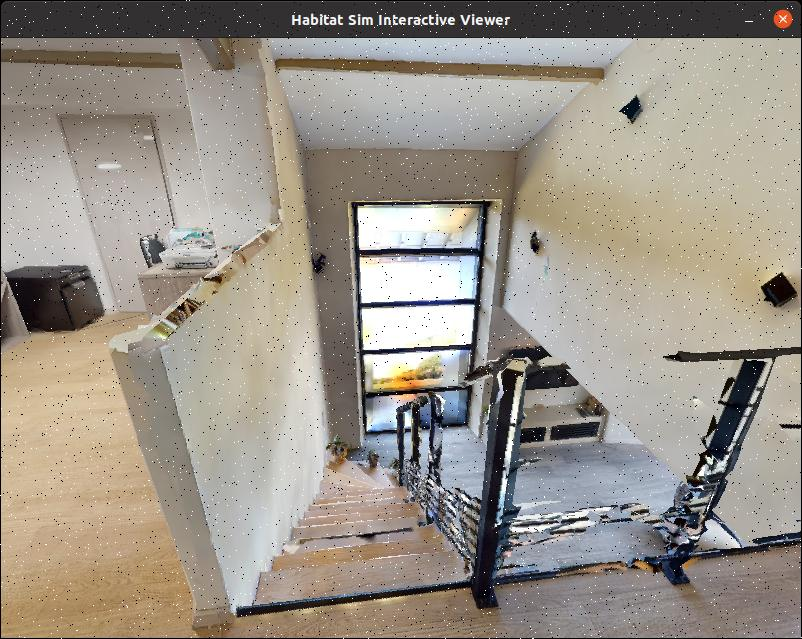stairs: (217, 375, 494, 633)
